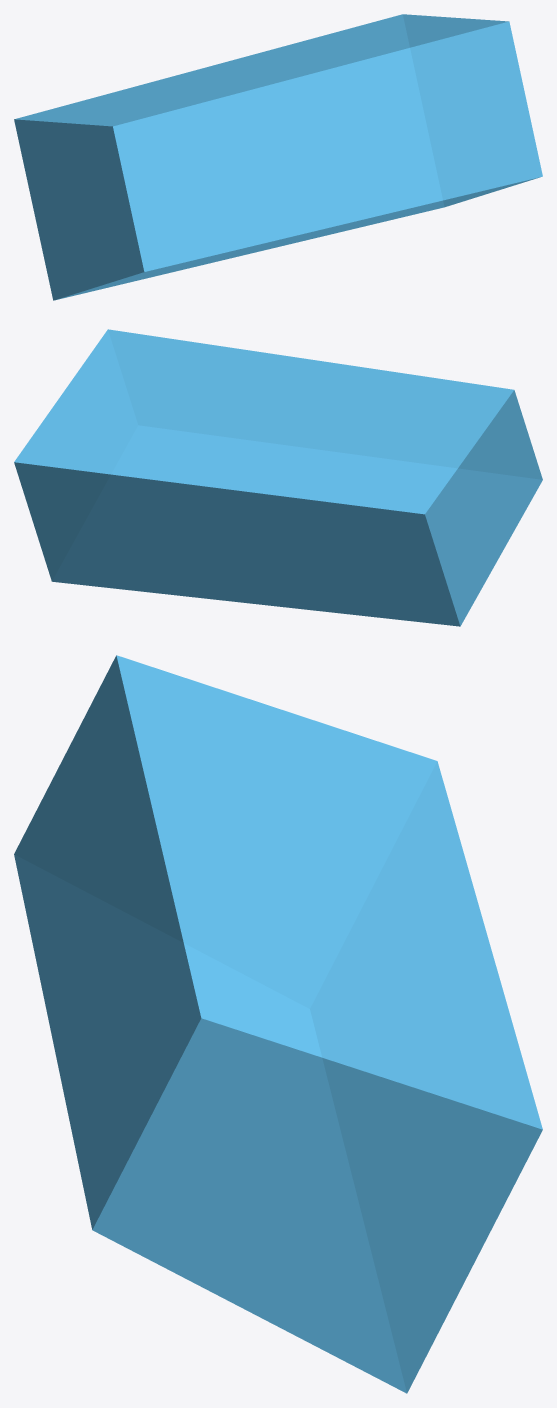
The model's file is Event_421556567_HErechit_38.fbx.
The picture shows the model from 3 angles, top to bottom: view 1: azimuth 30°, elevation 25°; view 2: azimuth 150°, elevation 25°; view 3: azimuth 270°, elevation 25°; orthographic projection. The views are drawn at different scales.
Parts seen in each view (by area): view 1: Model; view 2: Model; view 3: Model.
Part boxes in pixels (x1=…): Model: x1=14, y1=14, x2=542, y2=300; Model: x1=14, y1=329, x2=542, y2=626; Model: x1=14, y1=655, x2=542, y2=1393.
Bounding box in the file's own units: 0.6612 × 0.3725 × 0.4411.
